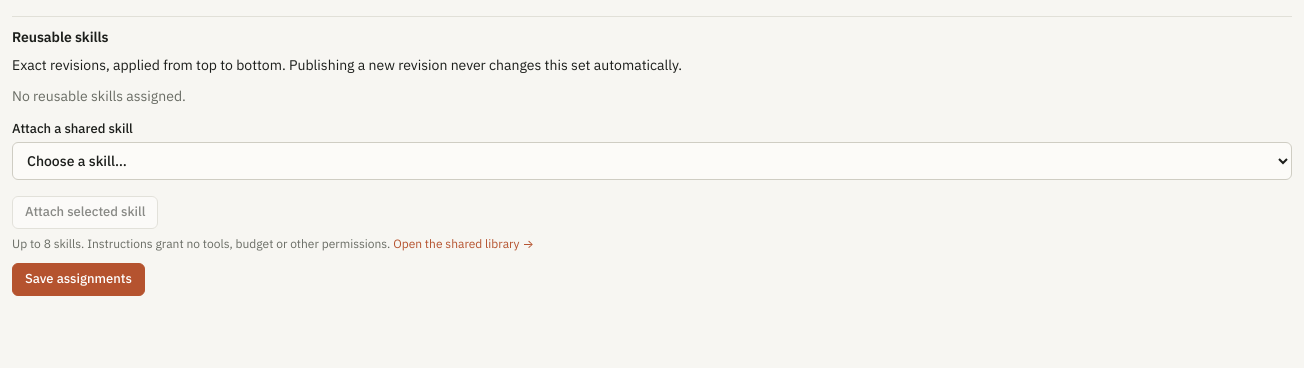
Scenario: retries an unconfirmed assignment mutation with the original operation identity
expect the text "No reusable skills assigned." is shown: met, box [12, 86, 186, 104]
Click the button "Save assignments": [78, 279] box [12, 263, 145, 296]
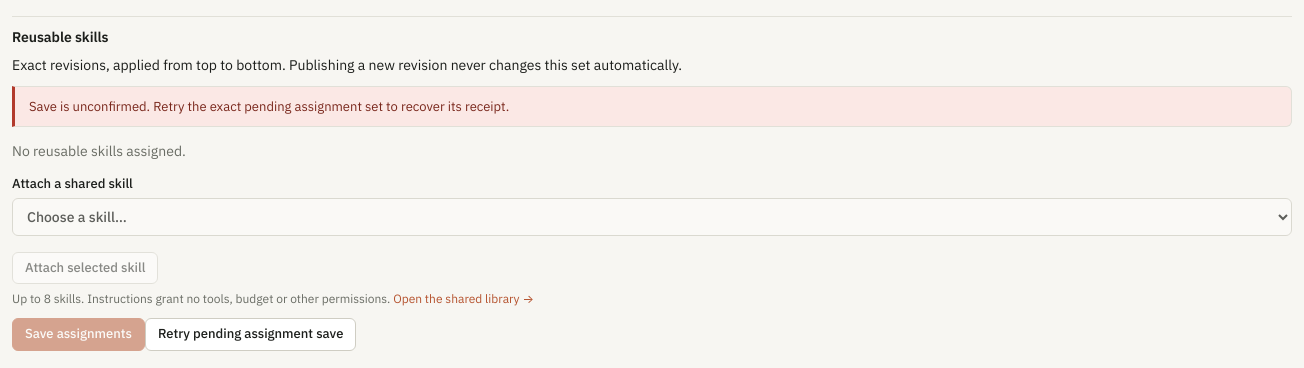
expect the text "Save is unconfirmed" is shown: met, box [29, 98, 509, 114]
Click the button "Retry pending assignment save": [251, 335] box [145, 318, 356, 351]
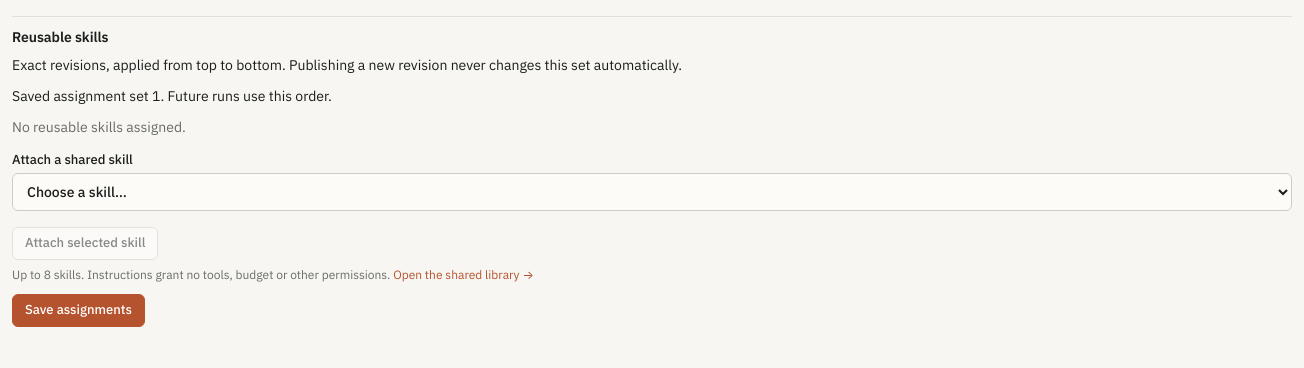
expect the text "Saved assignment set 1. Future runs use this order." is shown: met, box [12, 86, 332, 104]
